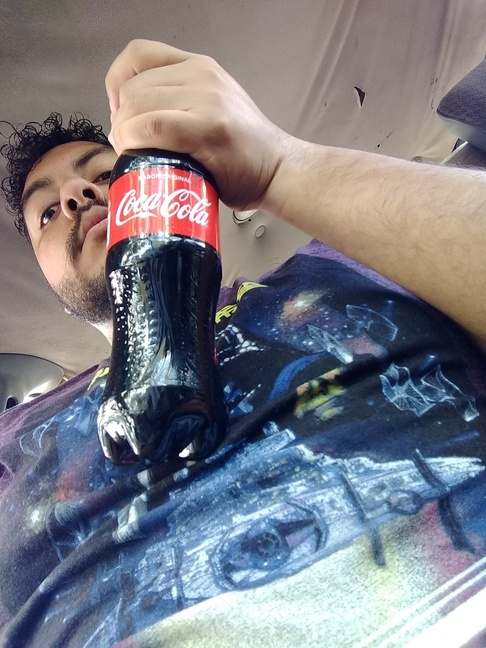Yoshi: (9, 95, 149, 341)
